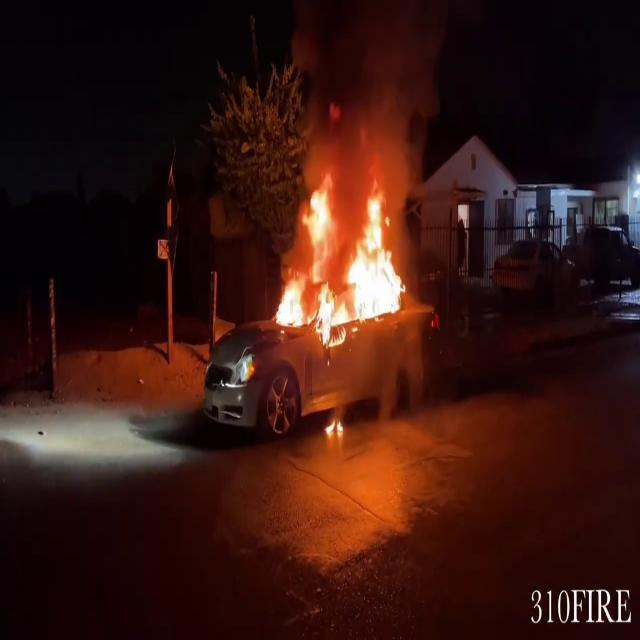Fire: (270, 170, 413, 338), (322, 409, 346, 443)
Smoke: (296, 1, 452, 188)
